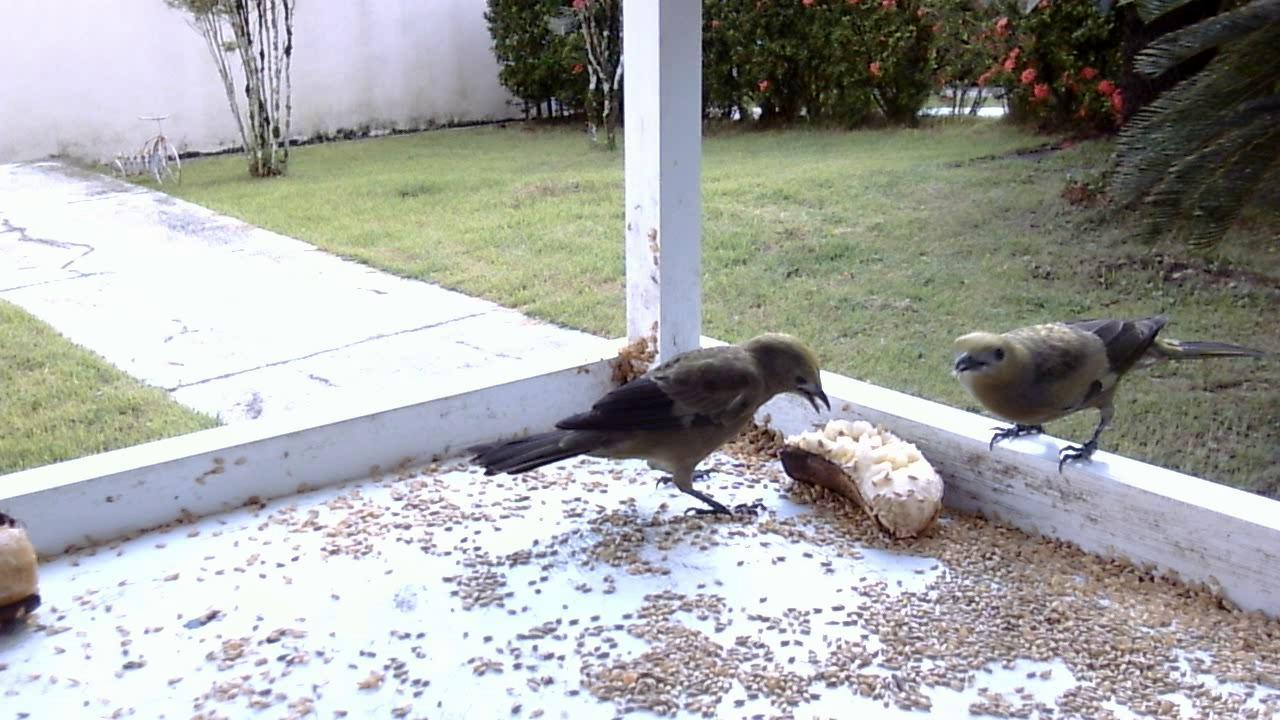sanhaco_do_coqueiro: (474, 326, 829, 521), (942, 302, 1256, 483)
